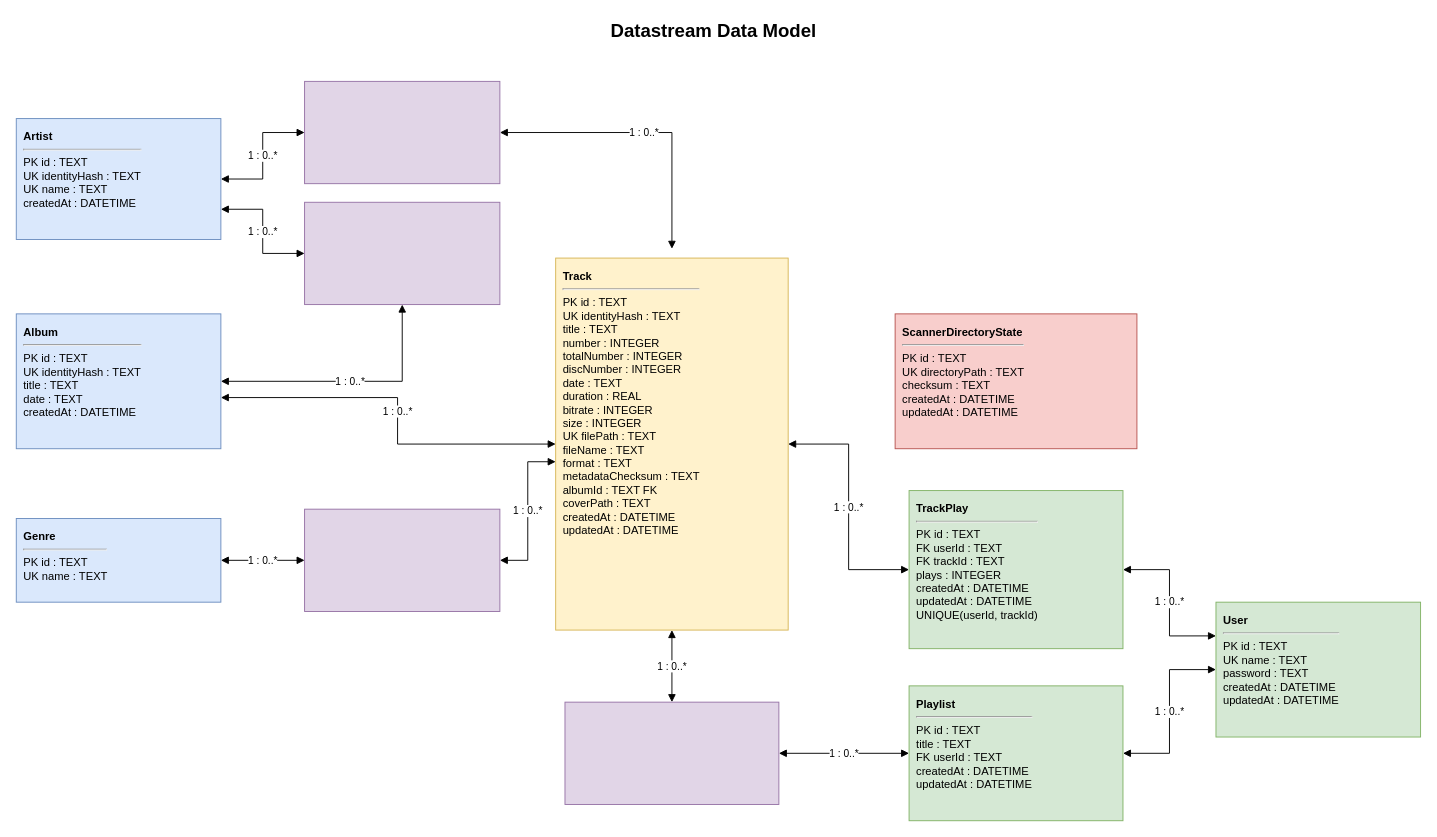
Some shapes in this 1437 by 837 pixel diagram are drawn without their labels. The shapes that lost their labels are listed below. From the top down, each one's centre as x and y in pixels, then its label:
At point (402, 132): "_ArtistToTrack FK A : Artist.id FK B : Track.id UNIQUE(A, B)".
At point (402, 253): "_AlbumToArtist FK A : Album.id FK B : Artist.id UNIQUE(A, B)".
At point (402, 559): "_GenreToTrack FK A : Genre.id FK B : Track.id UNIQUE(A, B)".
At point (671, 752): "_PlaylistToTrack FK A : Playlist.id FK B : Track.id UNIQUE(A, B)".
